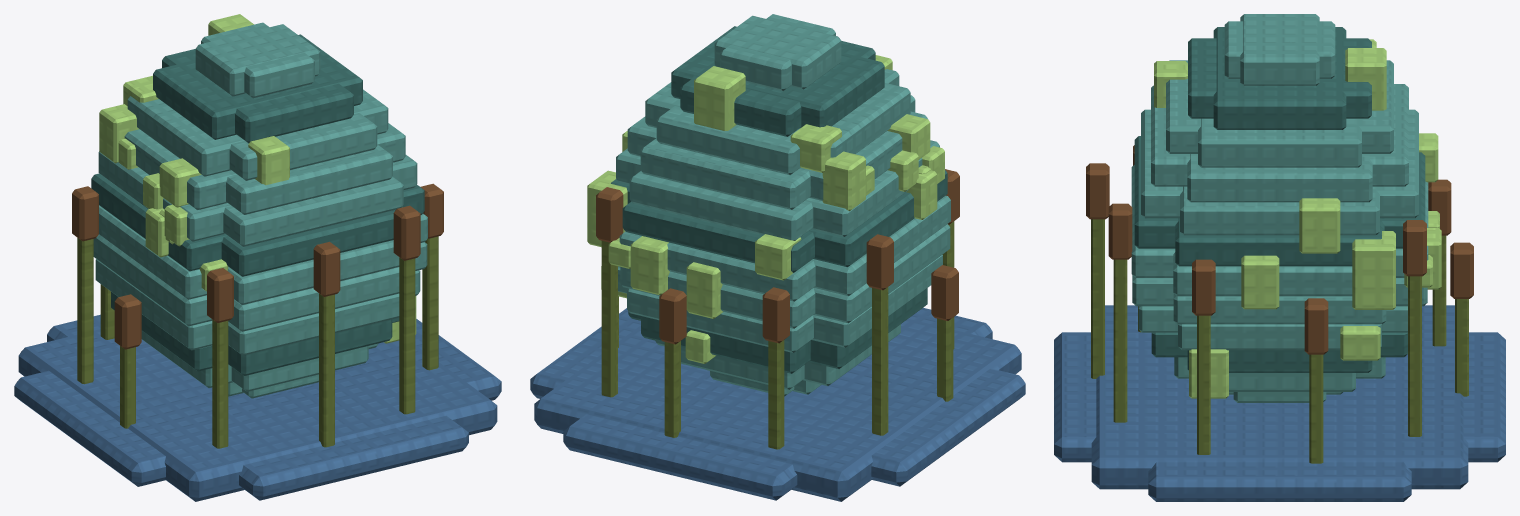
The model's file is oeuf_3_marais.glb.
The picture shows the model from 3 angles, left to right: view 1: azimuth 30°, elevation 25°; view 2: azimuth 150°, elevation 25°; view 3: azimuth 270°, elevation 25°; orthographic projection. The views are drawn at different scales.
Parts seen in each view (by area): view 1: oeuf_3_marais; view 2: oeuf_3_marais; view 3: oeuf_3_marais.
Boxes of the visible parts, left/top/right/bottom form: oeuf_3_marais: left=14, top=14, right=501, bottom=501; oeuf_3_marais: left=530, top=14, right=1025, bottom=501; oeuf_3_marais: left=1054, top=14, right=1505, bottom=501.
Bounding box in the file's own units: 4.56 × 4.2 × 4.56.
1 material, 1 textured.
